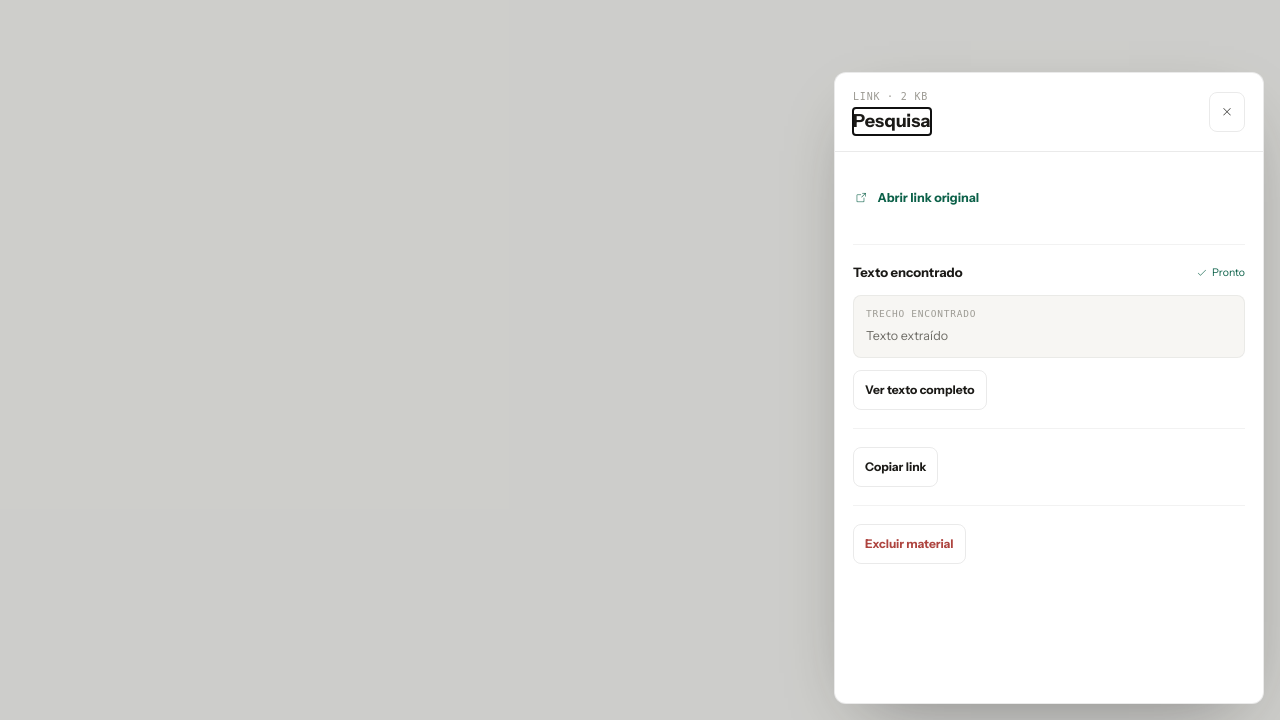
Test: reports copy failure and never offers actions for an unsafe source URL
Click the button "Copiar link": (896, 467) [853,447,938,487]
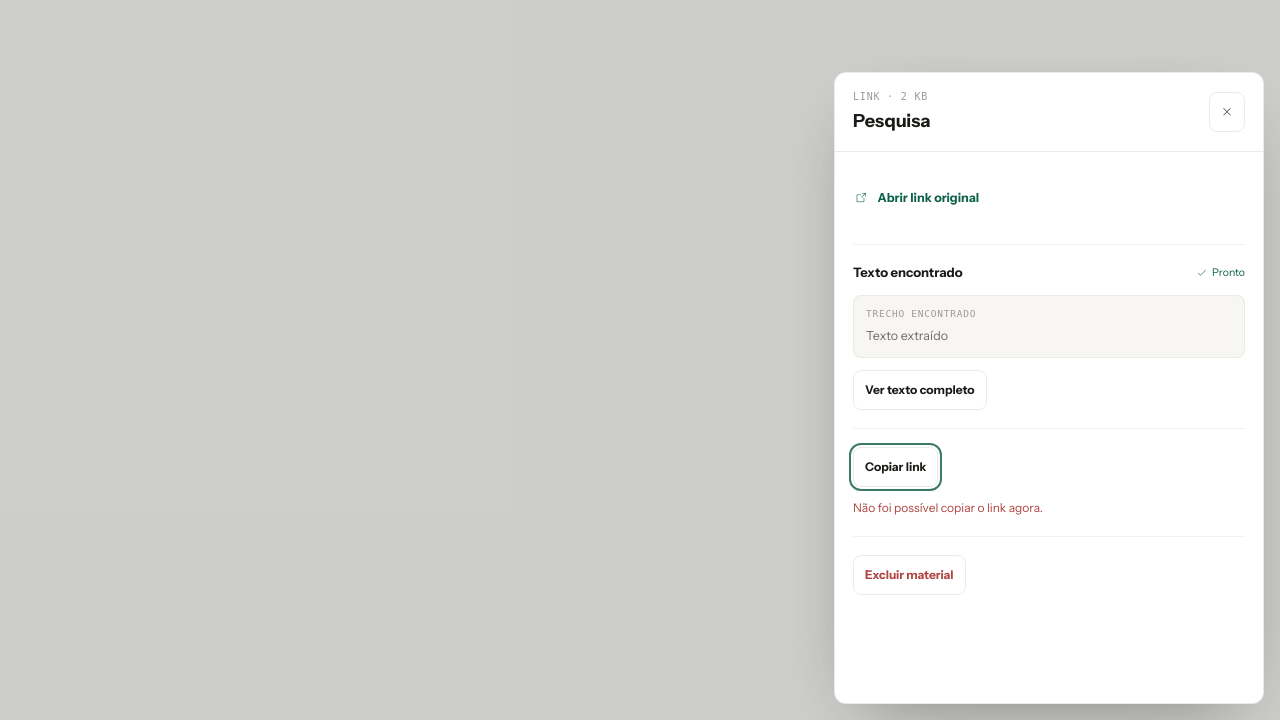
Now the message shows "Não foi possível copiar o link", box [853,500,1043,515]
